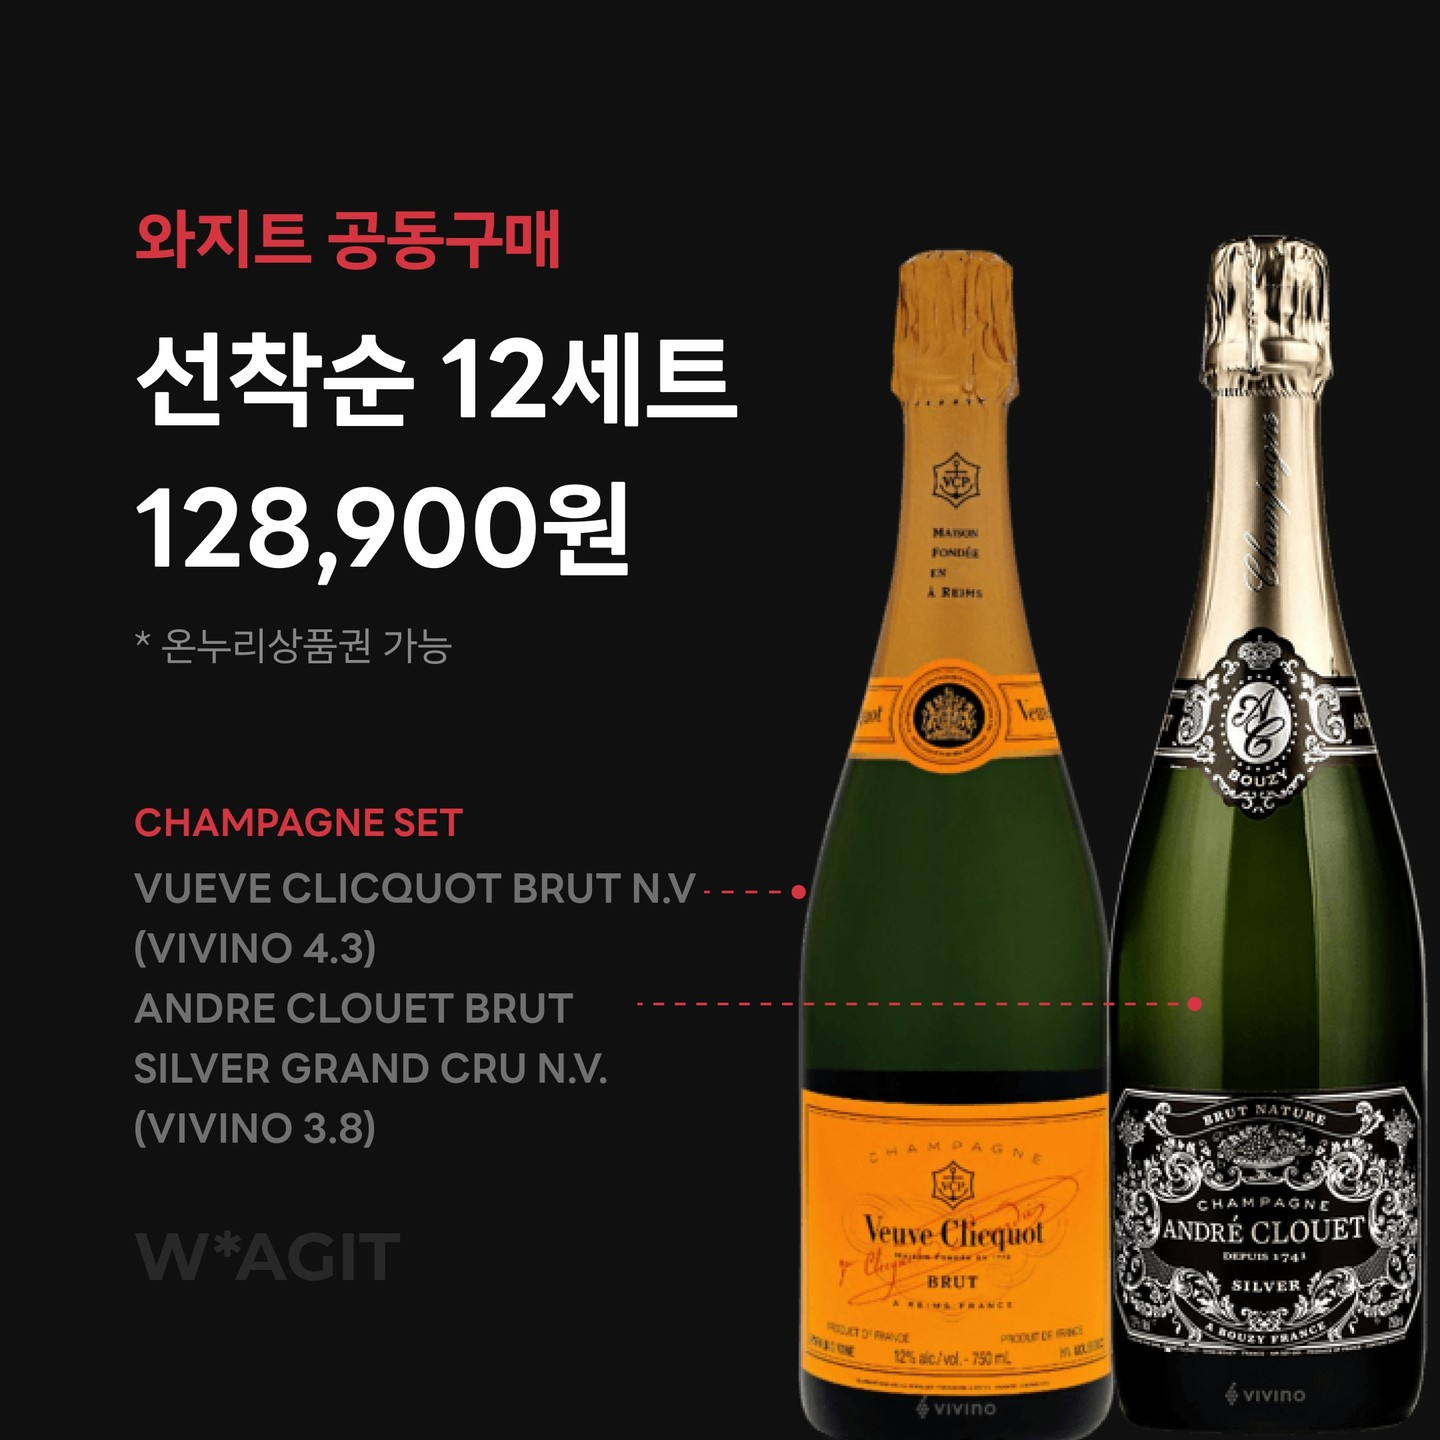alcohol: (1098, 225, 1440, 1440), (789, 239, 1126, 1440)
